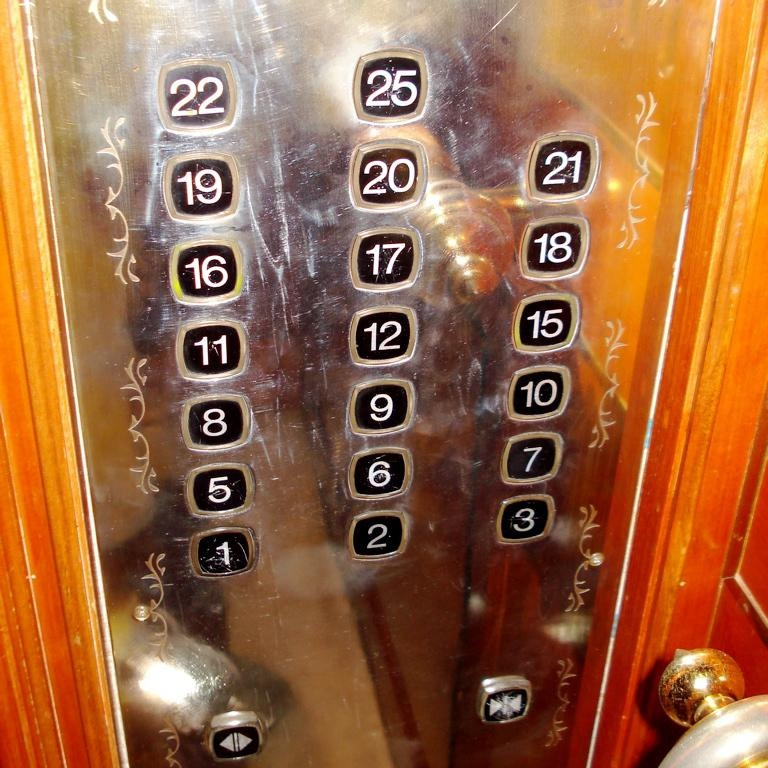1: (185, 523, 260, 581)
10: (504, 362, 573, 423)
11: (174, 320, 252, 383)
12: (347, 304, 418, 368)
15: (511, 289, 583, 355)
16: (163, 236, 246, 309)
17: (344, 228, 424, 295)
18: (519, 214, 591, 282)
19: (160, 149, 244, 224)
2: (347, 510, 410, 560)
20: (349, 137, 431, 215)
21: (522, 130, 603, 204)
22: (154, 57, 240, 136)
25: (352, 47, 431, 127)
3: (494, 491, 557, 549)
5: (184, 460, 258, 520)
6: (345, 444, 416, 502)
7: (498, 430, 563, 485)
8: (178, 391, 256, 454)
9: (347, 378, 418, 436)
close: (474, 672, 532, 725)
open: (205, 711, 266, 765)
